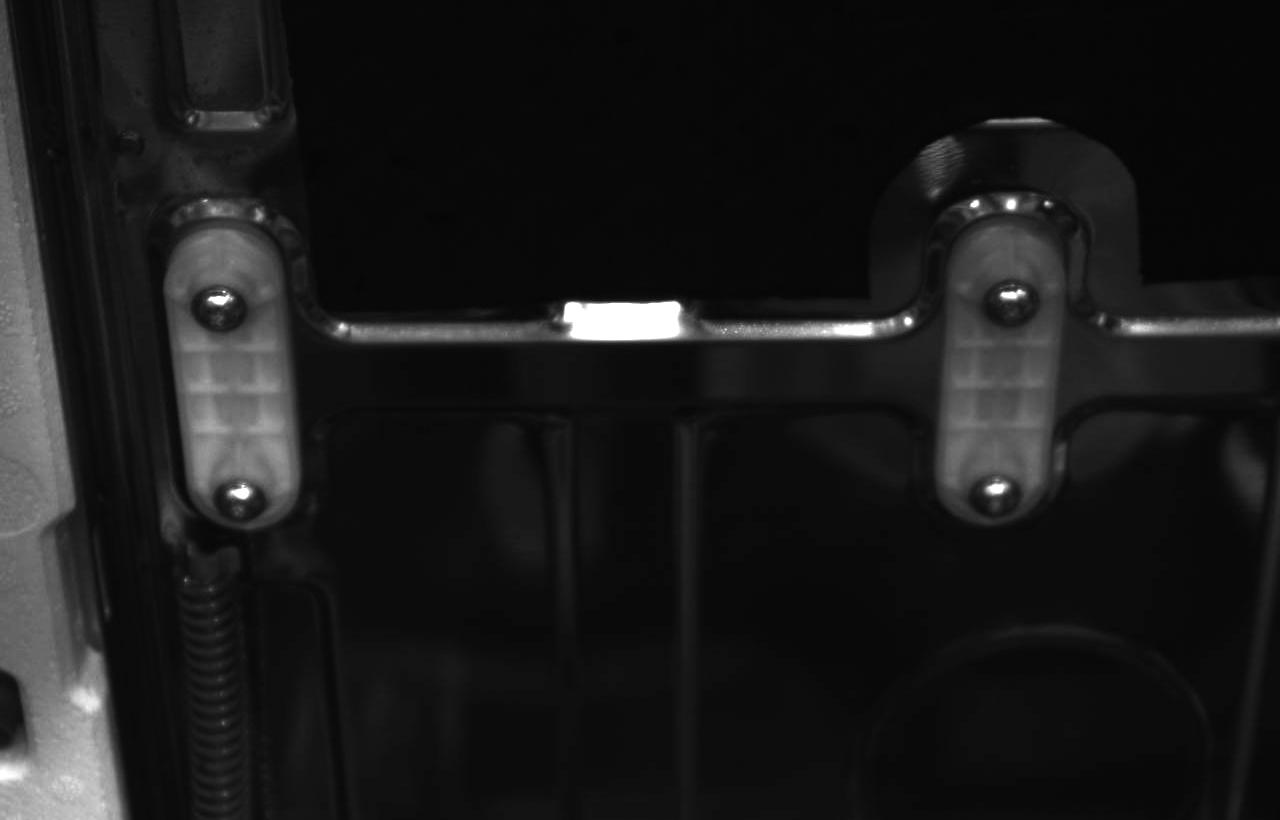vida-ok: (187, 274, 259, 341), (964, 459, 1030, 528), (976, 268, 1043, 335), (206, 468, 271, 527)
